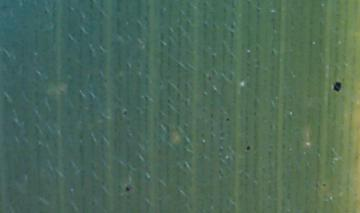tarspot: (331, 80, 342, 92), (122, 109, 130, 117), (244, 144, 252, 151), (124, 186, 132, 192), (206, 74, 212, 81), (225, 116, 231, 122), (321, 182, 325, 186)
